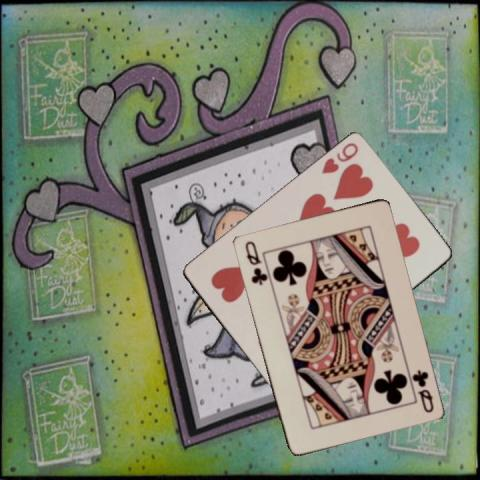9h: (318, 140, 360, 176)
Qc: (241, 237, 268, 287), (408, 367, 434, 414)
